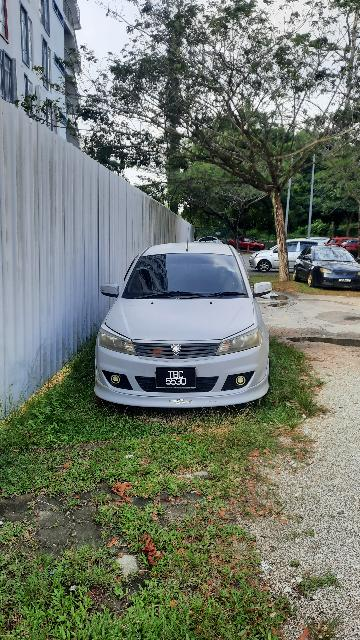License_Plate: (154, 367, 201, 395)
car: (94, 241, 278, 414)
